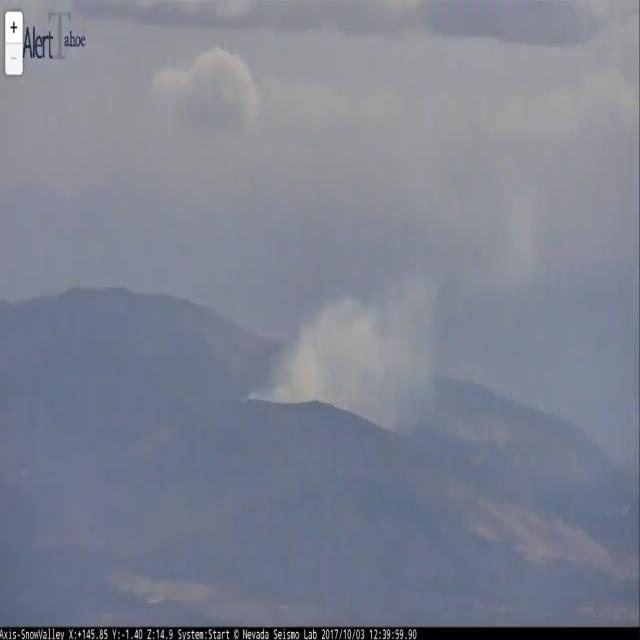smoke: (244, 265, 437, 439)
